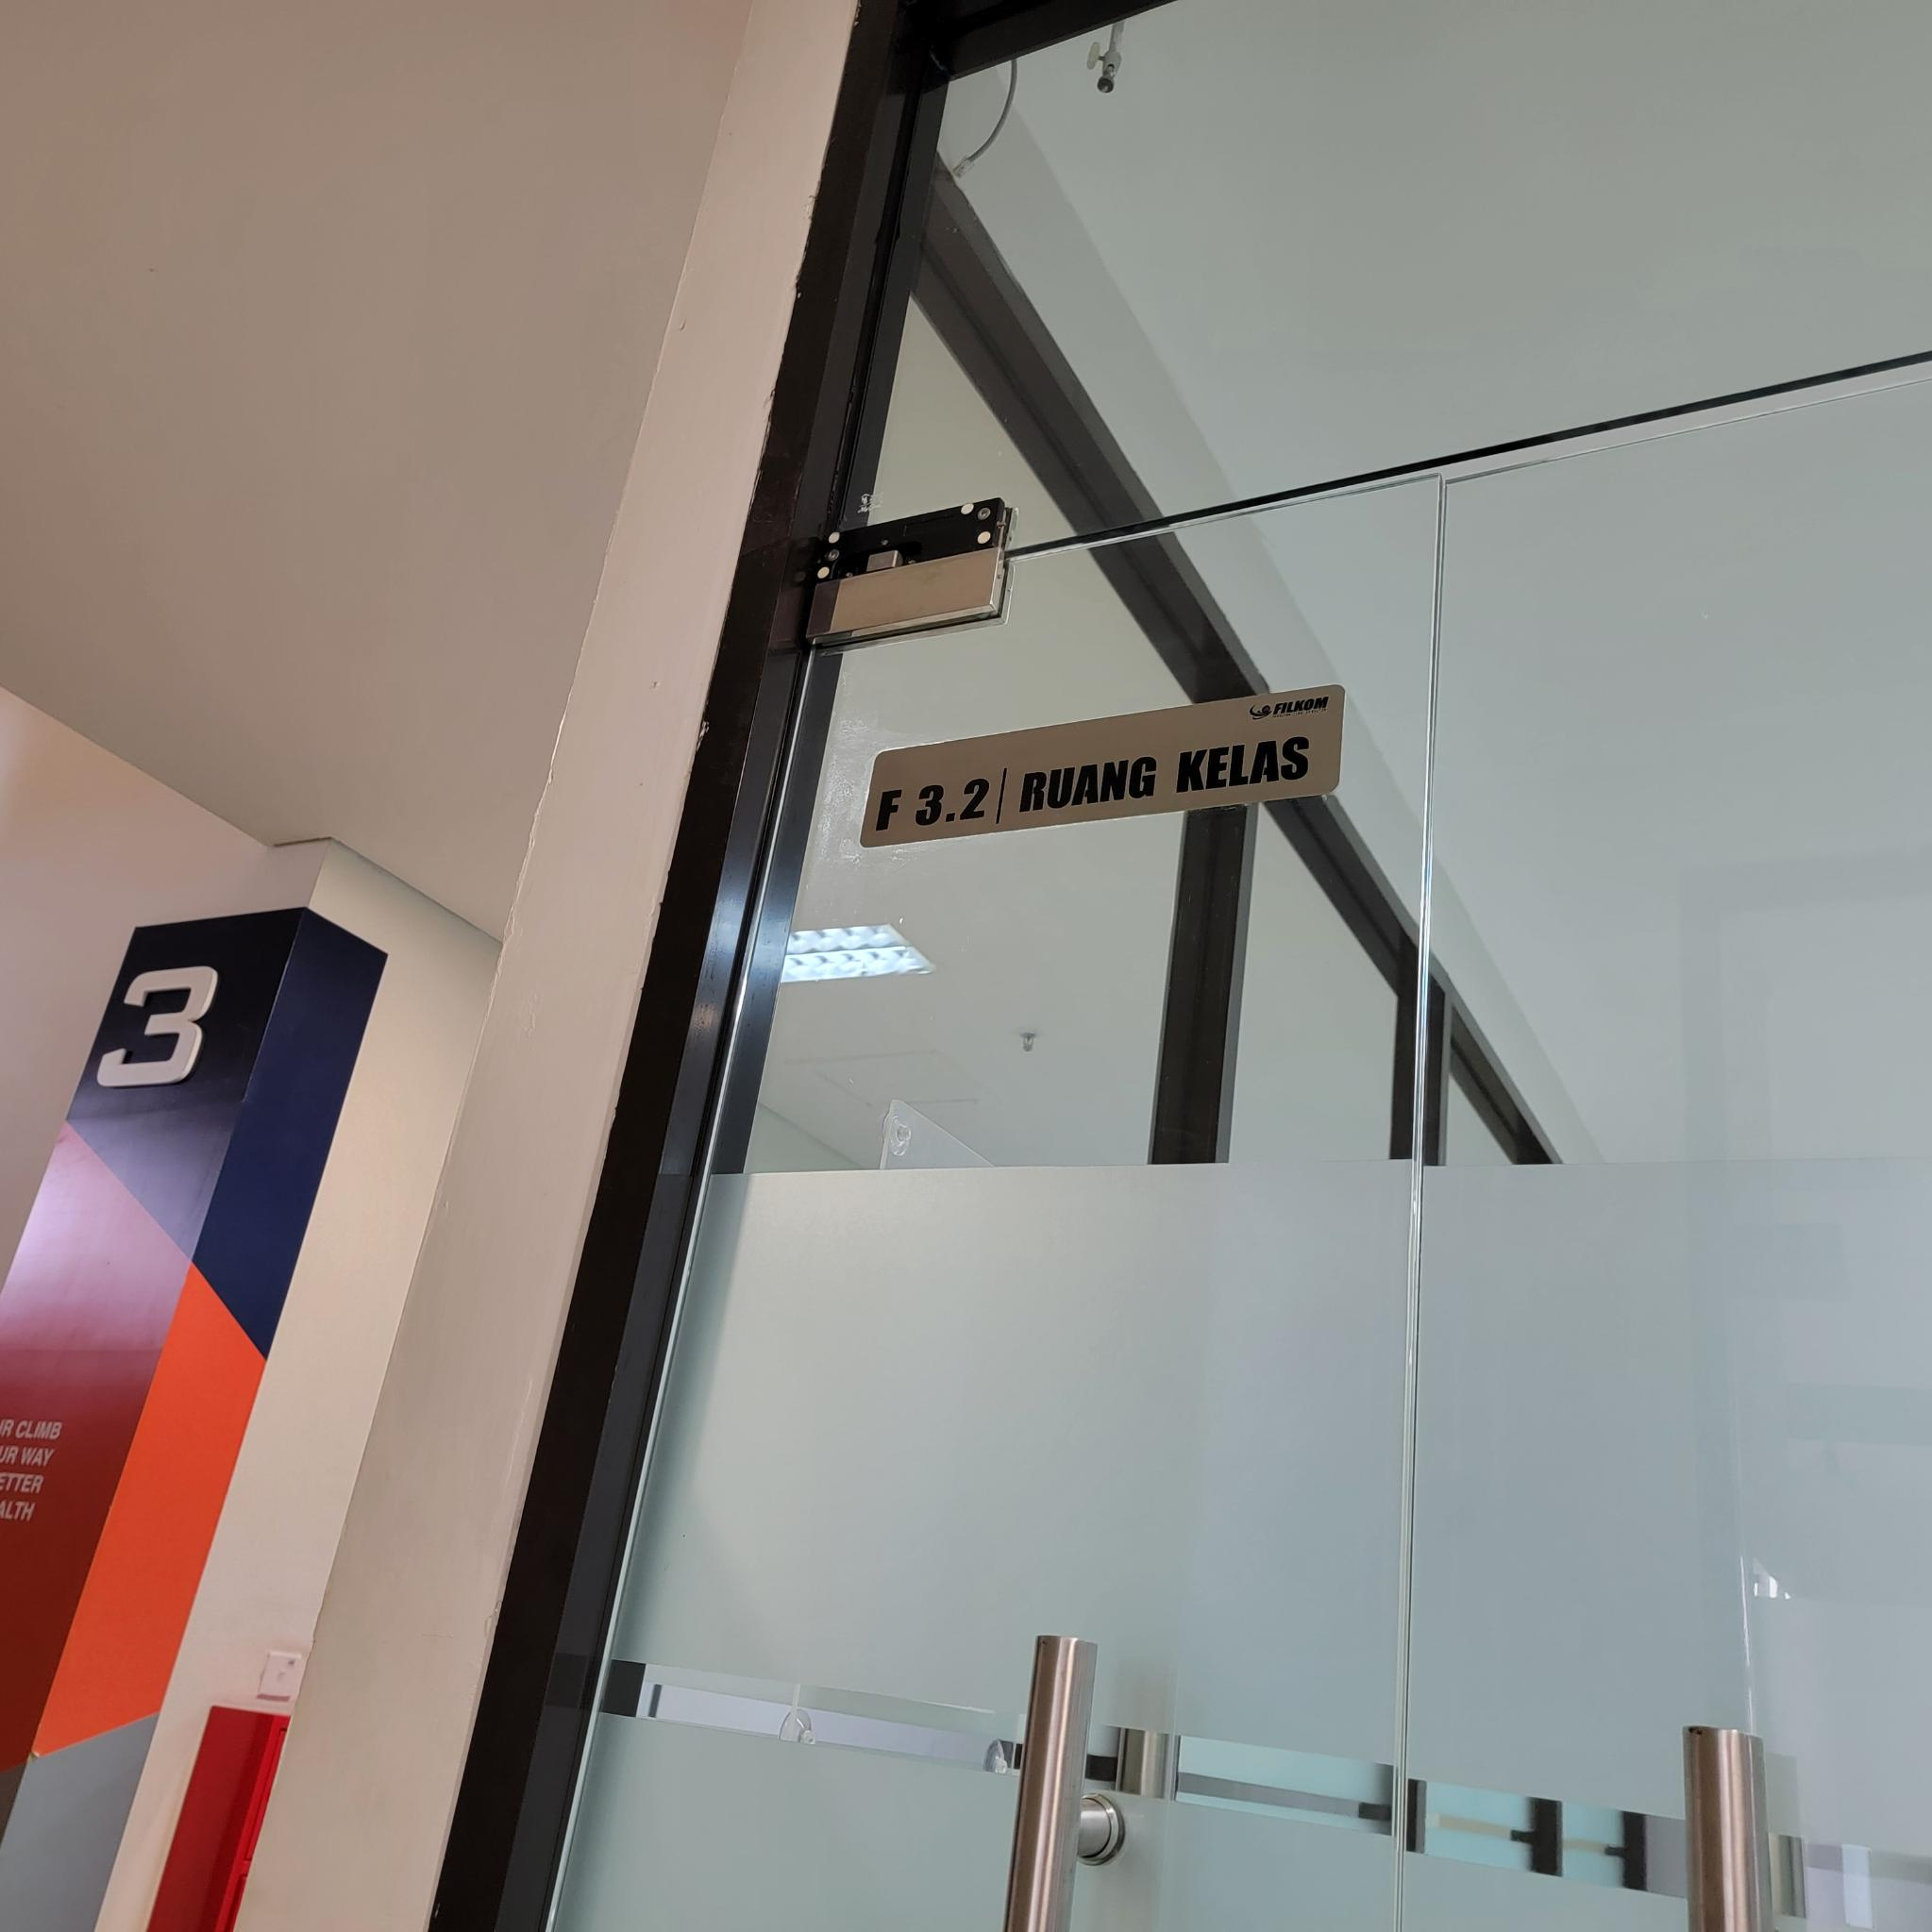plate: (863, 683, 1345, 853)
